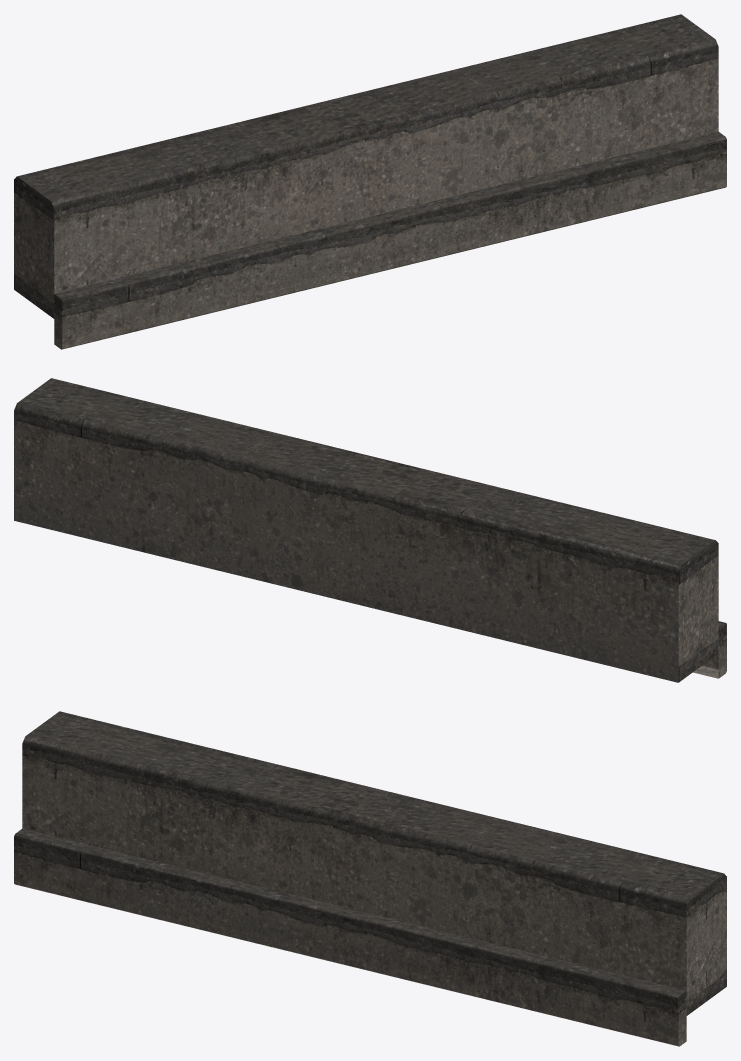
File: RoofConcrete.fbx
3 renders of one model, top to bottom at view 1: azimuth 30°, elevation 25°; view 2: azimuth 150°, elevation 25°; view 3: azimuth 330°, elevation 25°, orthographic.
Visible parts, largest first — view 1: RoofConcrete; view 2: RoofConcrete; view 3: RoofConcrete.
Part boxes in pixels (<box>): RoofConcrete: <box>14,14,726,349</box>; RoofConcrete: <box>14,378,726,682</box>; RoofConcrete: <box>14,711,726,1046</box>.
Bounding box in the file's own units: 157 × 31.87 × 19.91.
